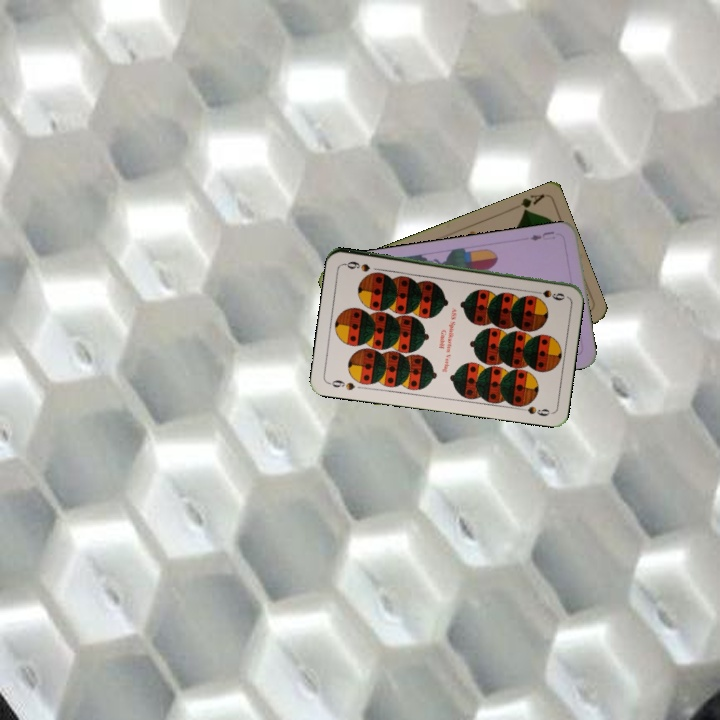EU: (526, 227, 557, 243)
GA: (516, 190, 547, 216)
S9: (527, 286, 567, 301), (324, 376, 357, 393)
